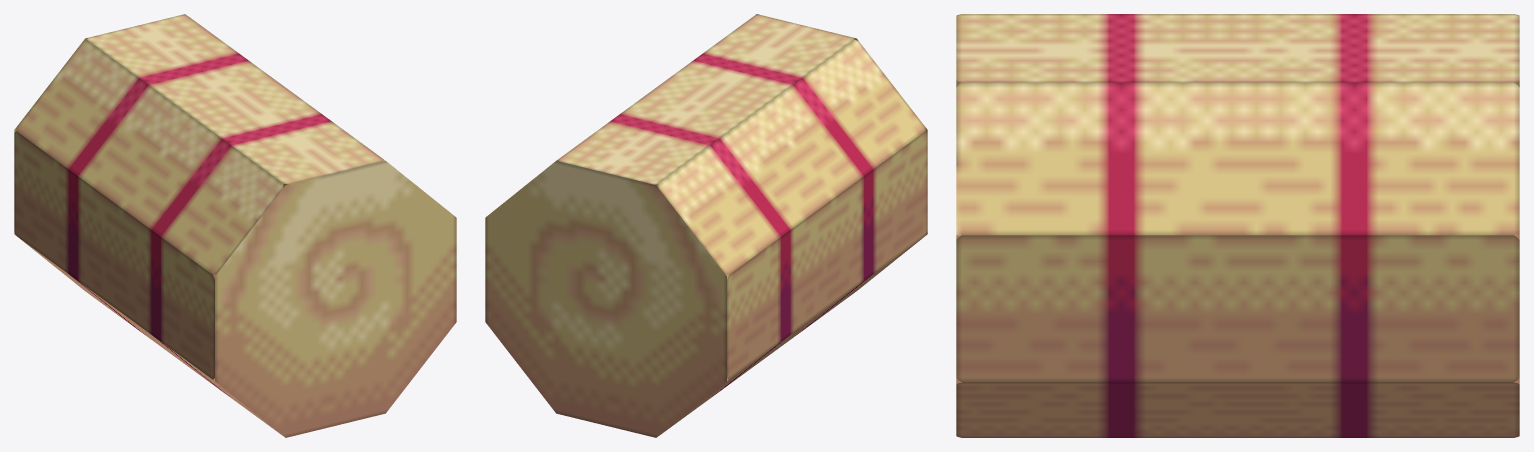
File: HayBale.fbx
3 views of the same model, side by side, from view 1: azimuth 30°, elevation 25°; view 2: azimuth 150°, elevation 25°; view 3: azimuth 270°, elevation 25° (orthographic). The views are drawn at different scales.
Parts seen in each view (by area): view 1: HayBale; view 2: HayBale; view 3: HayBale.
Boxes of the visible parts, left/top/right/bottom form: HayBale: left=14, top=14, right=456, bottom=437; HayBale: left=485, top=14, right=927, bottom=437; HayBale: left=956, top=14, right=1519, bottom=437.
Size of the model in its own units: 100 by 100 by 144.
Materials: 1 (1 with a texture image).
